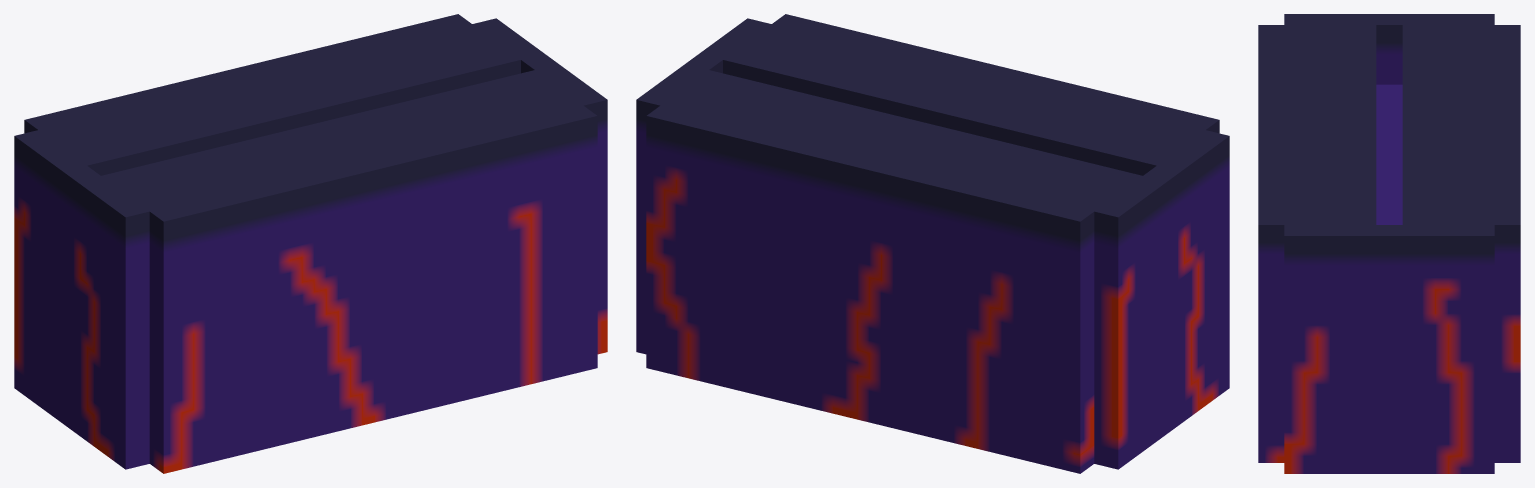
File: SawTrap.fbx
3 views of the same model, side by side, from view 1: azimuth 30°, elevation 25°; view 2: azimuth 150°, elevation 25°; view 3: azimuth 270°, elevation 25° (orthographic). The views are drawn at different scales.
Visible parts, largest first — view 1: SawTrap; view 2: SawTrap; view 3: SawTrap.
Boxes of the visible parts, x1,y1,x2,y2 form: SawTrap: [14, 14, 607, 473]; SawTrap: [636, 14, 1229, 473]; SawTrap: [1258, 14, 1520, 473].
Bounding box in the file's own units: 40 × 20 × 20.
Materials: 1 (1 with a texture image).
